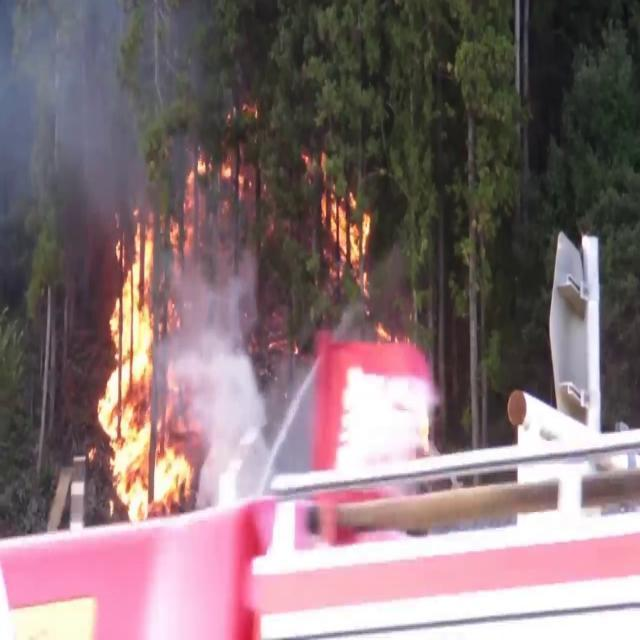Fire: (86, 212, 198, 524), (315, 161, 377, 292)
Smoke: (0, 1, 225, 288), (168, 257, 268, 503)
